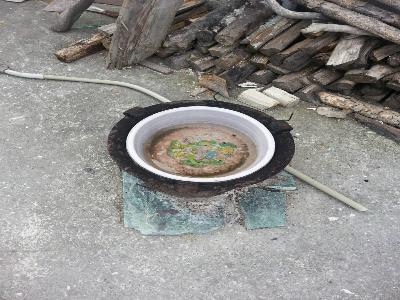bowl: (105, 100, 294, 199), (126, 107, 276, 184)
